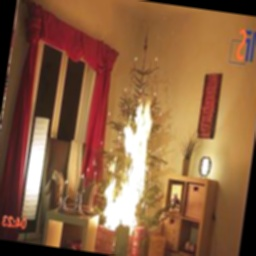fire: (88, 78, 167, 233)
